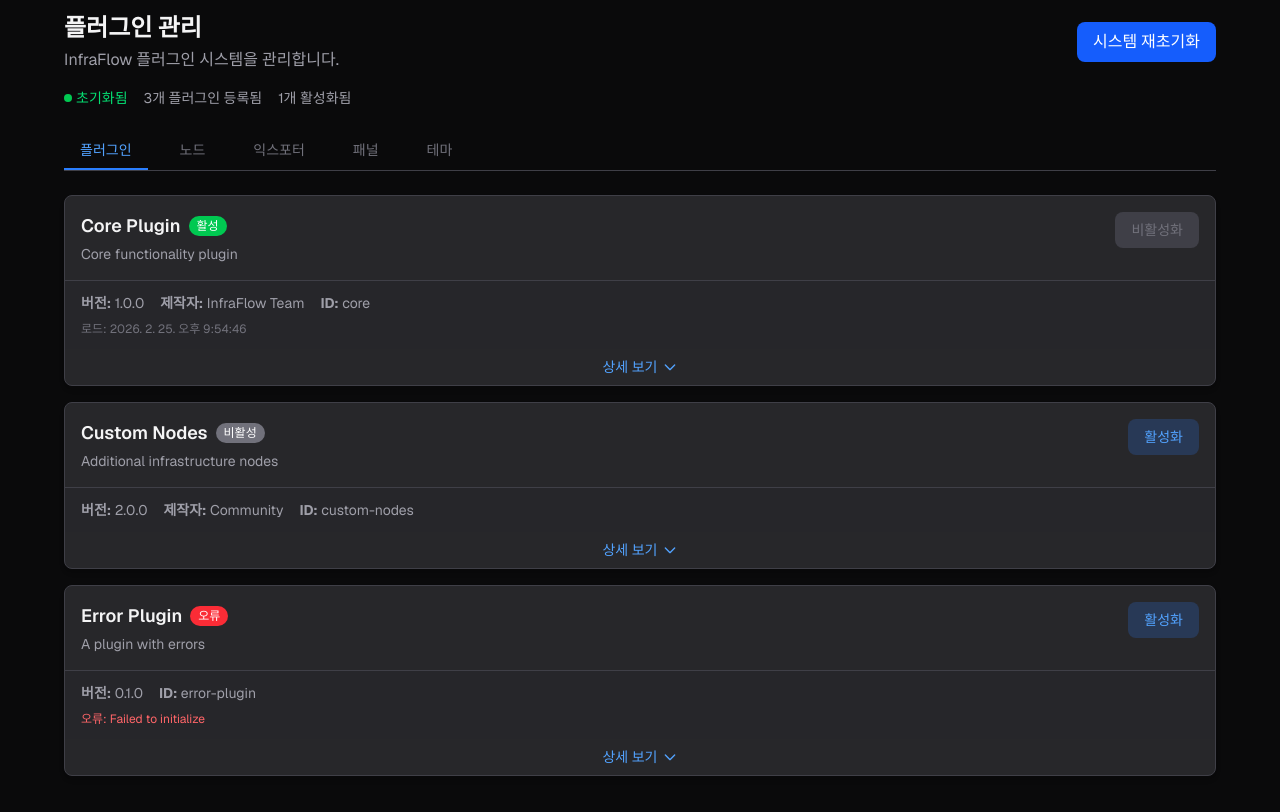
Test: PluginManager › Exporters Tab › should display exporter table
Click the button "익스포터" at x=279, y=151, box [237,132,321,170]
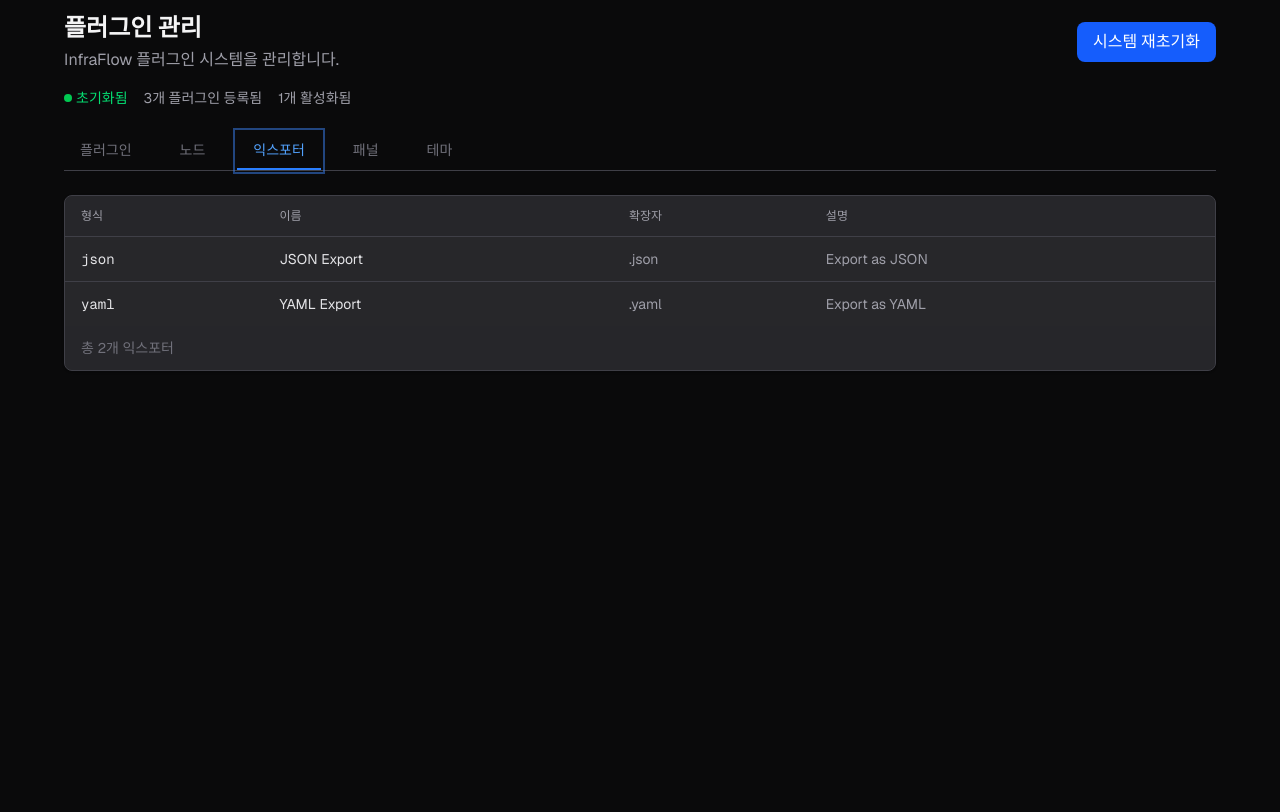
Now the column heading "형식" is shown, box [65,196,263,236]
Now the column heading "확장자" is shown, box [613,196,810,236]
